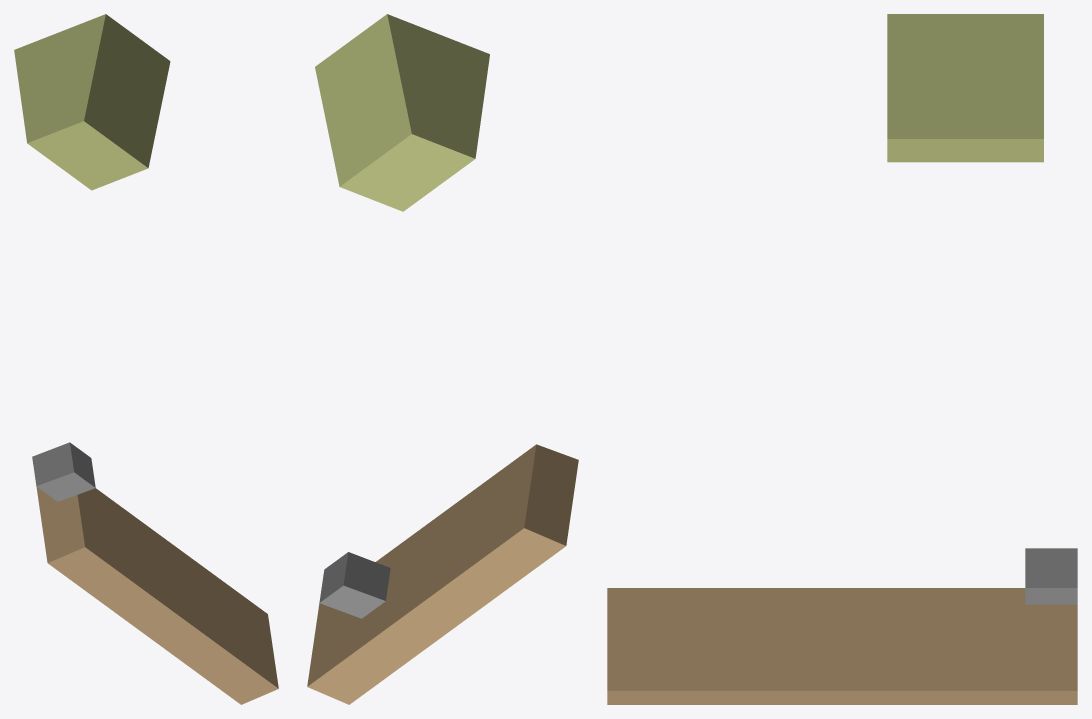
3 views of the same model, side by side, from view 1: azimuth 30°, elevation 25°; view 2: azimuth 150°, elevation 25°; view 3: azimuth 270°, elevation 25° (orthographic). The views are drawn at different scales.
Parts seen in each view (by area): view 1: 0_1_3_2_1_1_1_3_0; view 2: 0_1_3_2_1_1_1_3_0; view 3: 0_1_3_2_1_1_1_3_0.
Part boxes in pixels (bbox=[...]): 0_1_3_2_1_1_1_3_0: bbox=[14, 14, 278, 704]; 0_1_3_2_1_1_1_3_0: bbox=[307, 14, 578, 704]; 0_1_3_2_1_1_1_3_0: bbox=[607, 14, 1077, 704].
Size of the model in its own units: 7.39 by 42.17 by 27.
